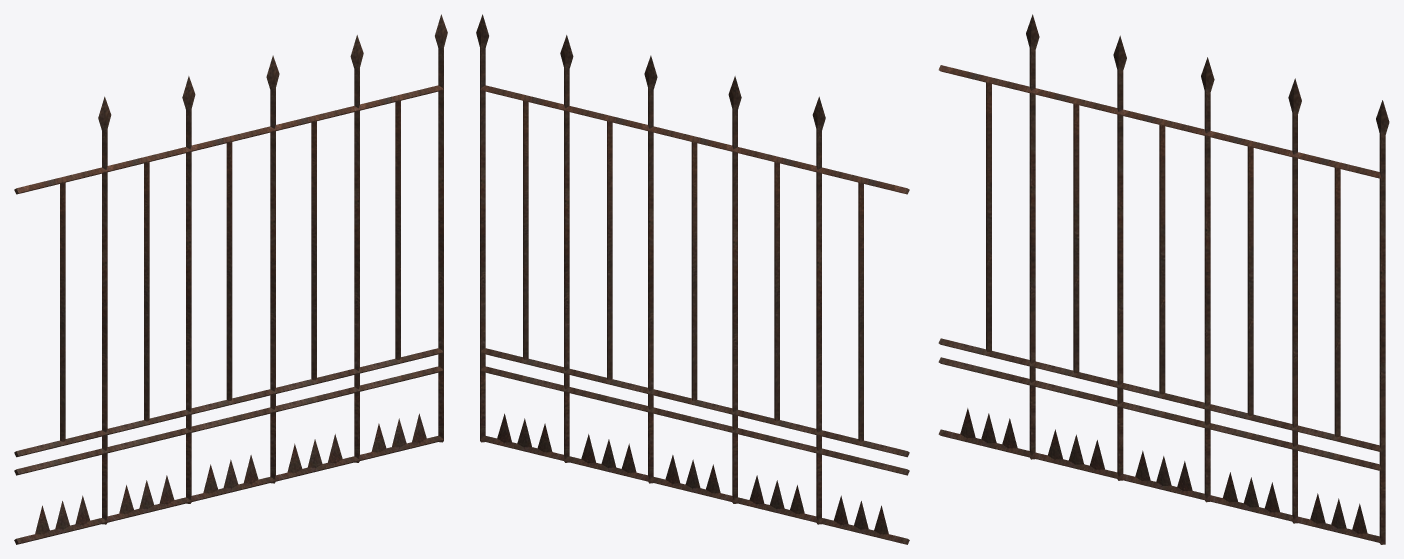
The model's file is bars.fbx.
3 renders of one model, left to right at view 1: azimuth 30°, elevation 25°; view 2: azimuth 150°, elevation 25°; view 3: azimuth 330°, elevation 25°, orthographic. The views are drawn at different scales.
Parts seen in each view (by area): view 1: Mesh Object; view 2: Mesh Object; view 3: Mesh Object.
Part boxes in pixels (x1,y1,x2,y2): Mesh Object: (14, 14, 447, 544); Mesh Object: (476, 14, 909, 544); Mesh Object: (938, 14, 1389, 544).
Size of the model in its own units: 2.06 by 1.95 by 0.0376.
